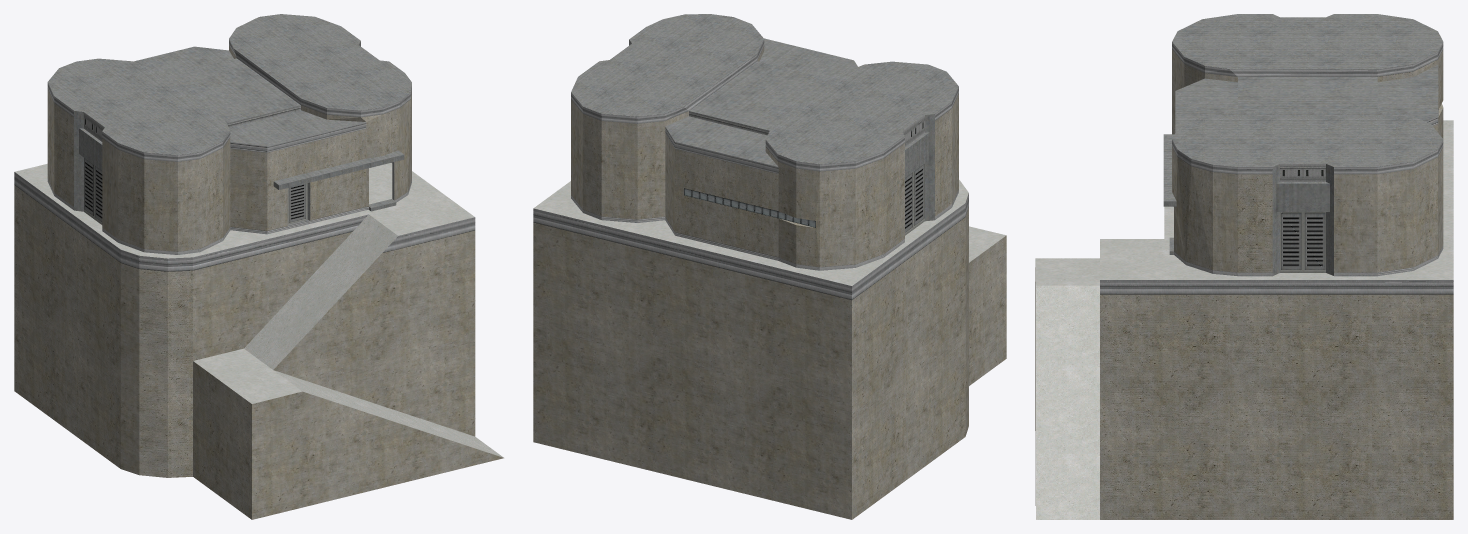
The model's file is ply_all_house_m_s01_fp1_r0_exterior_mesh_l1.fbx.
3 views of the same model, side by side, from view 1: azimuth 30°, elevation 25°; view 2: azimuth 150°, elevation 25°; view 3: azimuth 270°, elevation 25° (orthographic). The views are drawn at different scales.
Parts seen in each view (by area): view 1: mesh_node; view 2: mesh_node; view 3: mesh_node.
Boxes of the visible parts, left/top/right/bottom form: mesh_node: left=14, top=14, right=503, bottom=519; mesh_node: left=533, top=14, right=1006, bottom=519; mesh_node: left=1035, top=14, right=1453, bottom=519.
Bounding box in the file's own units: 23.53 × 24 × 26.07.
